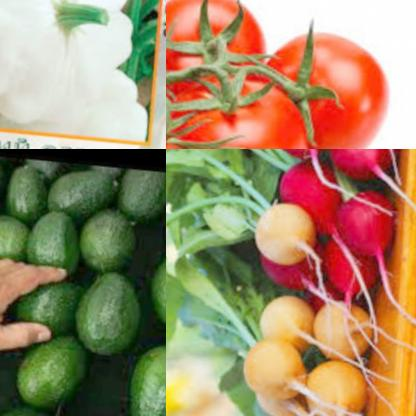avocado: (69, 260, 150, 348), (21, 326, 106, 405), (121, 315, 166, 416), (44, 161, 118, 216), (26, 199, 80, 274), (85, 193, 144, 258), (110, 162, 166, 223), (0, 160, 45, 218), (0, 196, 37, 260), (141, 248, 166, 321), (0, 394, 71, 416)
rediska: (247, 187, 321, 274), (272, 152, 347, 236), (330, 178, 401, 256), (242, 329, 318, 400), (313, 291, 388, 362), (303, 353, 380, 416), (251, 287, 324, 352), (324, 238, 391, 300), (257, 250, 326, 290), (250, 382, 317, 416), (321, 149, 395, 172), (291, 408, 375, 416), (276, 411, 331, 416)
squash-patisson: (0, 0, 148, 132), (0, 42, 152, 149)
tomato: (257, 18, 401, 149), (166, 58, 311, 149), (166, 0, 270, 94)
